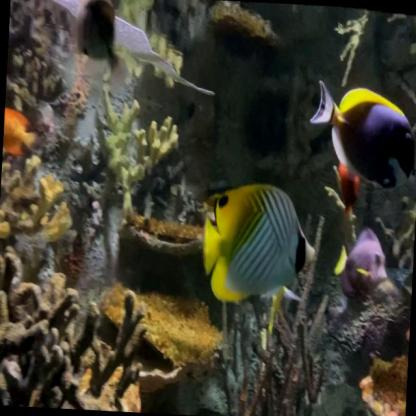fish: (200, 178, 319, 306), (306, 76, 416, 192), (330, 223, 392, 305), (2, 104, 41, 162)
